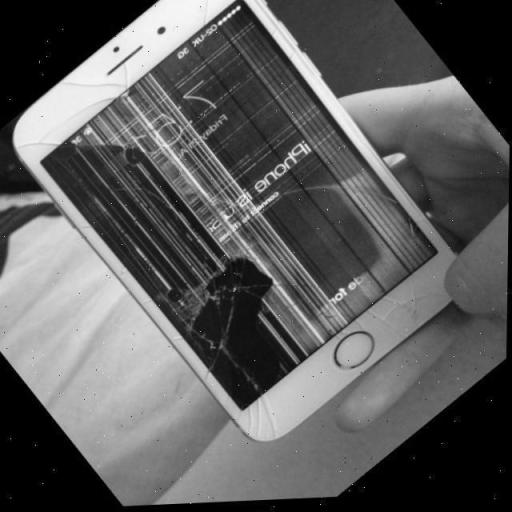phone: (13, 0, 455, 440)
